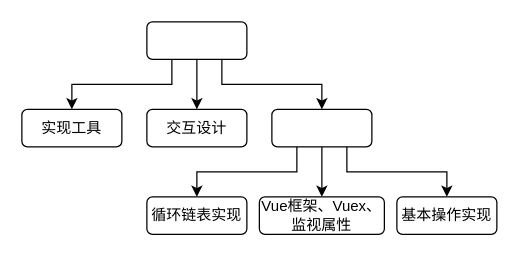
Image size: 519x256. Some labels were removed from this diagram. Here are the shapes that lost their labels. From the top down, the centre of each, then its label:
the point at 196,40: 设计思想
the point at 321,127: 算法实现
